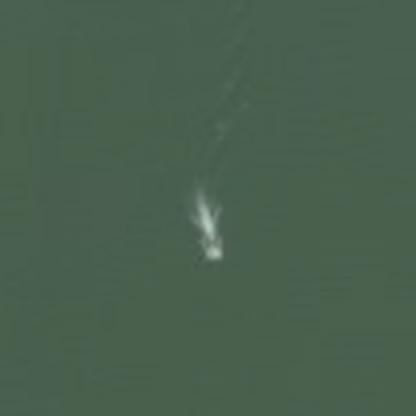ship: (181, 231, 243, 274)
